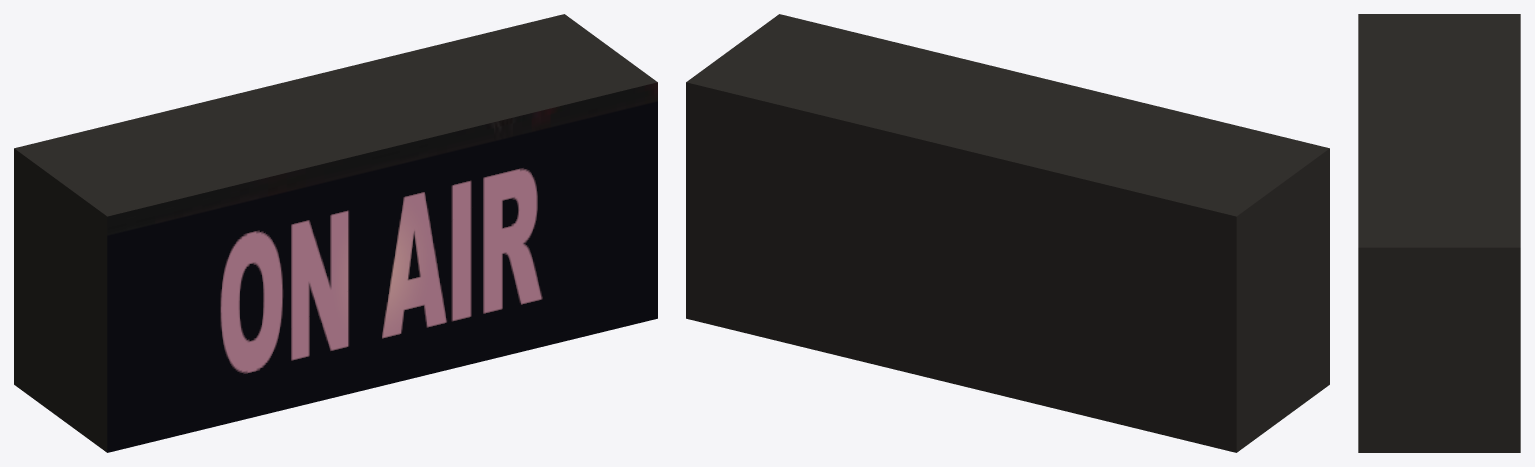
The model's file is GYM_Box_OnAir.fbx.
3 views of the same model, side by side, from view 1: azimuth 30°, elevation 25°; view 2: azimuth 150°, elevation 25°; view 3: azimuth 270°, elevation 25° (orthographic). The views are drawn at different scales.
Visible parts, largest first — view 1: ON_AIR_Sign; view 2: ON_AIR_Sign; view 3: ON_AIR_Sign.
Part boxes in pixels (<box>): ON_AIR_Sign: <box>14,14,657,452</box>; ON_AIR_Sign: <box>686,14,1329,452</box>; ON_AIR_Sign: <box>1358,14,1520,452</box>.
Bounding box in the file's own units: 0.5706 × 0.2342 × 0.1675.
Materials: 2 (1 with a texture image).
